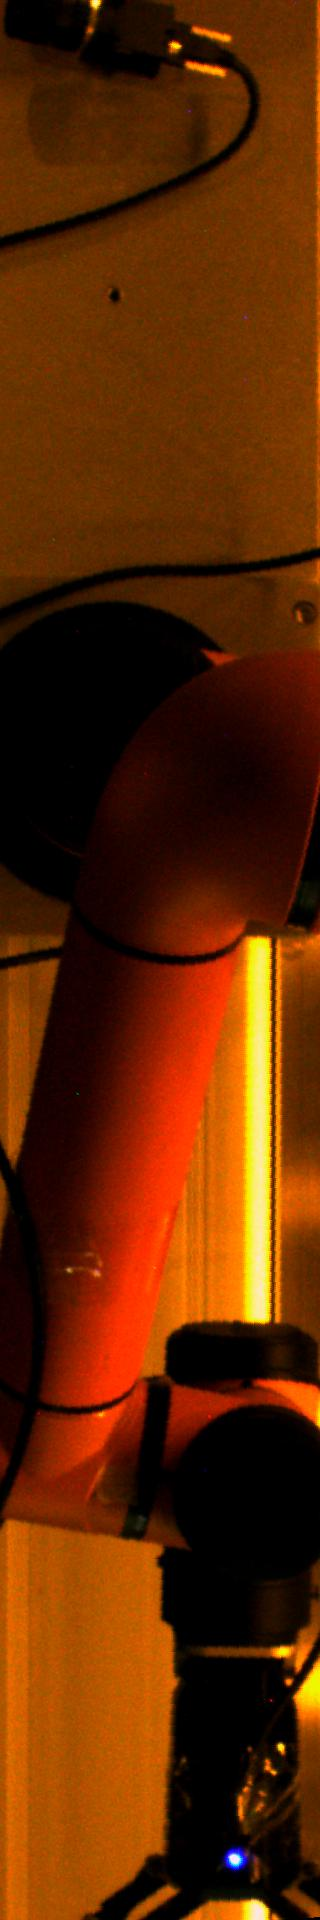keyPoint_1: (219, 1843, 250, 1873)
keyPoint_2: (99, 282, 129, 312)
